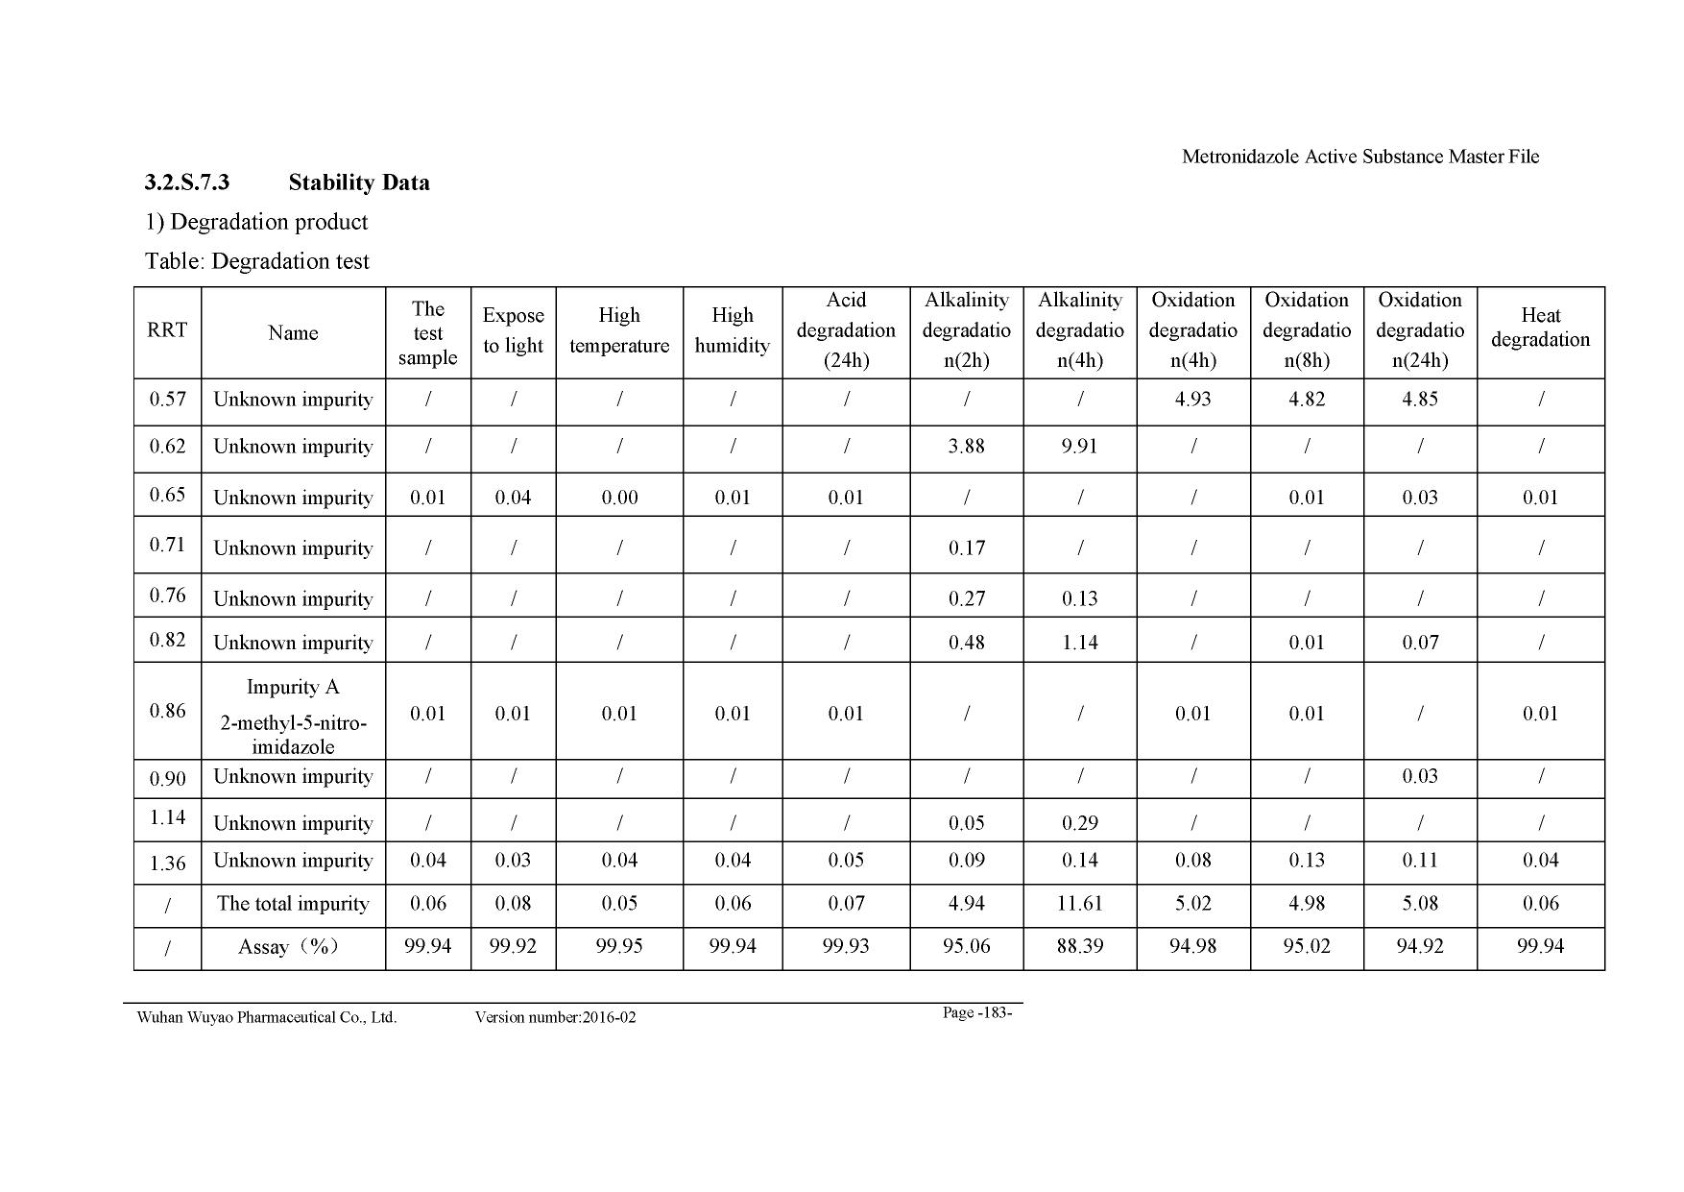full_lined: (133, 286, 1607, 971)
